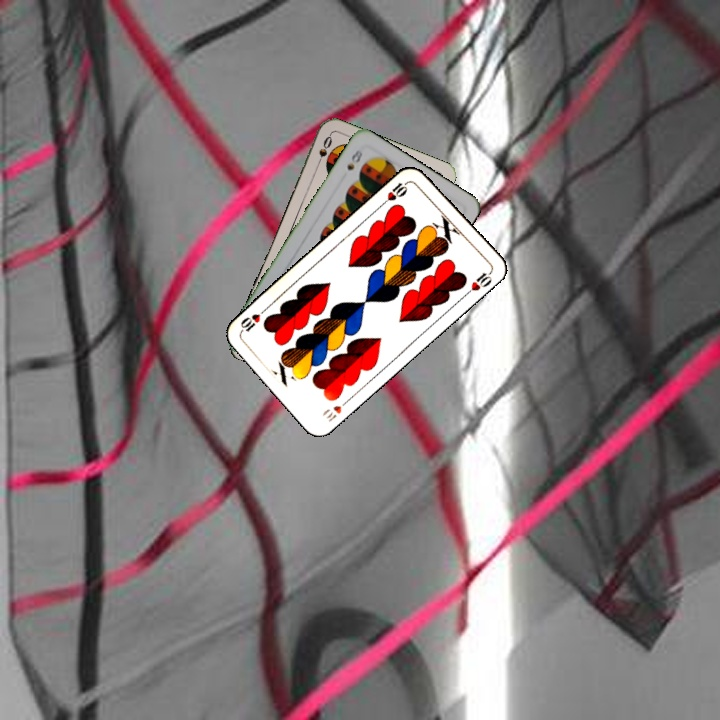H10: (378, 177, 412, 208), (321, 394, 353, 424)
S8: (343, 144, 365, 173)
SO: (312, 131, 335, 170)
